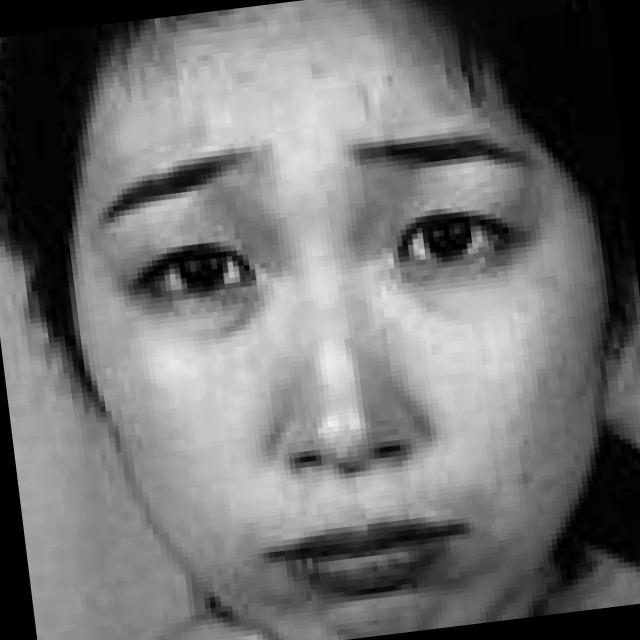sad: (41, 65, 598, 640)
